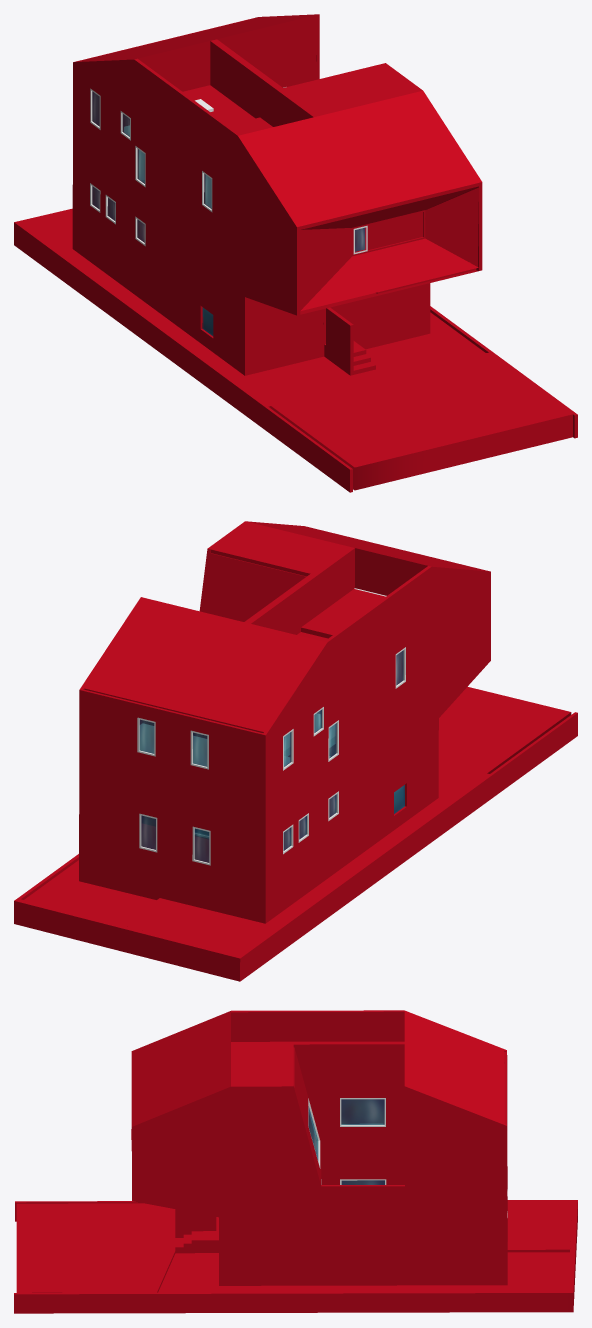
Rendered from asset.glb.
3 views of the same model, one above another, from view 1: azimuth 30°, elevation 25°; view 2: azimuth 150°, elevation 25°; view 3: azimuth 270°, elevation 25° (orthographic). The views are drawn at different scales.
Parts seen in each view (by area): view 1: 3D_FACADE_BLACK, 3D_FIRST FLOOR, 3D_FACADE_REFLECTIVE, 3D_SURROUNDING CONTEXT, 3D_WALL, 3D_WINDOW FRAMES, 3d_Glass, 3D_TURF, 3D_FACADE_REFLECTIVE.001, 3D_FLOOR, Windows frames, 3D_FACADE_WHITE; view 2: 3D_FACADE_BLACK, 3D_FIRST FLOOR, 3D_SURROUNDING CONTEXT, 3D_FACADE_WHITE, 3D_TURF, 3d_Glass, 3D_FLOOR, 3D_WINDOW FRAMES, Windows frames, 3D_WALL; view 3: 3D_FACADE_BLACK, 3D_FIRST FLOOR, 3D_SURROUNDING CONTEXT, 3D_FACADE_WHITE, 3D_TURF, 3d_Glass, Windows frames.
Boxes of the visible parts, x1,y1,x2,y2 form: 3D_FACADE_BLACK: (72, 14, 482, 363); 3D_FIRST FLOOR: (31, 212, 572, 490); 3D_FACADE_REFLECTIVE: (300, 186, 478, 314); 3D_SURROUNDING CONTEXT: (14, 208, 577, 492); 3D_WALL: (141, 18, 316, 91); 3D_WINDOW FRAMES: (210, 44, 309, 126); 3d_Glass: (92, 91, 423, 251); 3D_TURF: (366, 312, 485, 369); 3D_FACADE_REFLECTIVE.001: (425, 187, 478, 266); 3D_FLOOR: (124, 85, 476, 293); Windows frames: (90, 87, 425, 336); 3D_FACADE_WHITE: (210, 39, 282, 91); 3D_FACADE_BLACK: (79, 521, 490, 911); 3D_FIRST FLOOR: (79, 686, 571, 950); 3D_SURROUNDING CONTEXT: (14, 712, 577, 981); 3D_FACADE_WHITE: (203, 553, 317, 756); 3D_TURF: (24, 860, 156, 924); 3d_Glass: (139, 650, 403, 862); 3D_FLOOR: (140, 588, 386, 766); 3D_WINDOW FRAMES: (254, 552, 354, 634); Windows frames: (137, 647, 405, 865); 3D_WALL: (142, 551, 424, 838); 3D_FACADE_BLACK: (131, 1010, 507, 1272); 3D_FIRST FLOOR: (16, 1201, 571, 1292); 3D_SURROUNDING CONTEXT: (14, 1200, 577, 1313); 3D_FACADE_WHITE: (293, 1041, 404, 1184); 3D_TURF: (158, 1252, 569, 1292); 3d_Glass: (308, 1099, 384, 1184); Windows frames: (308, 1098, 507, 1217).
Bounding box in the file's own units: 8.07 × 8.79 × 20.69.
6 materials, 1 textured.
